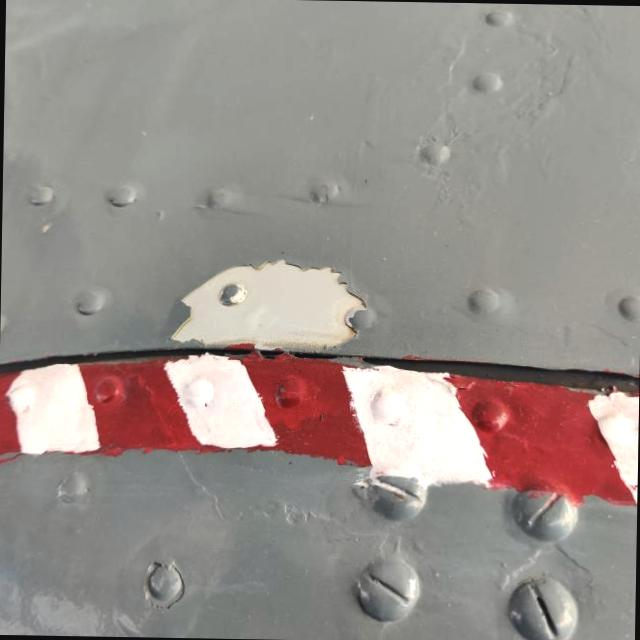paint-off: (152, 249, 380, 368)
